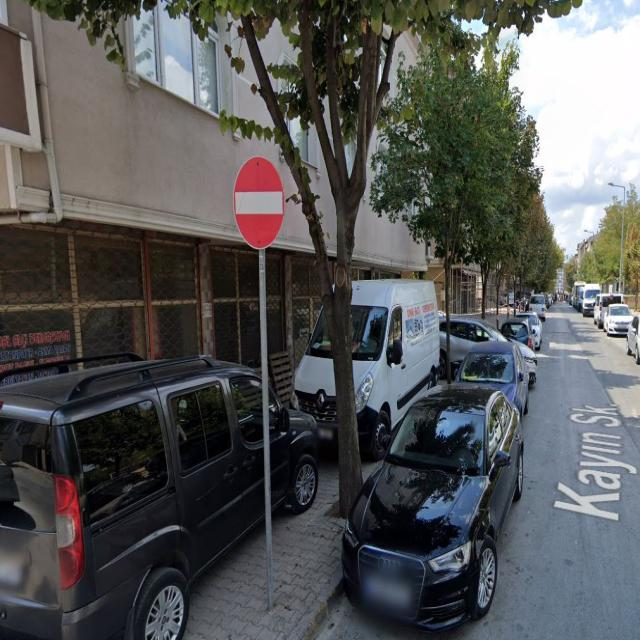girisyok: (232, 157, 284, 248)
